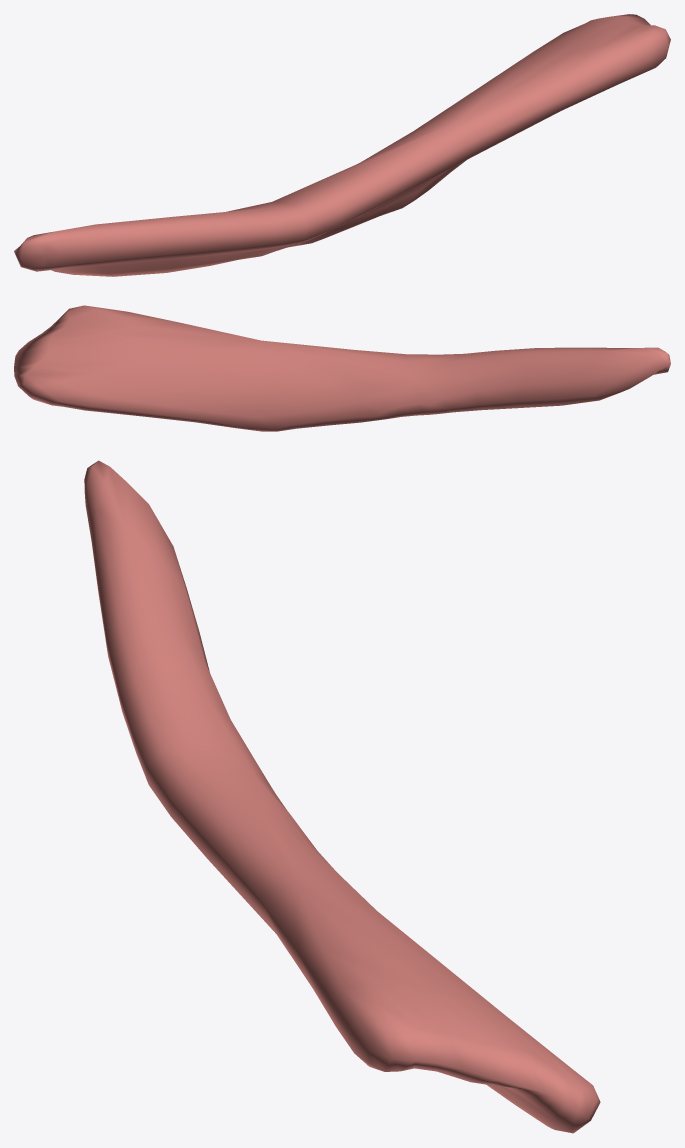
3 renders of one model, top to bottom at view 1: azimuth 30°, elevation 25°; view 2: azimuth 150°, elevation 25°; view 3: azimuth 270°, elevation 25°, orthographic. The views are drawn at different scales.
Visible parts, largest first — view 1: ZA_5755027f363aab50; view 2: ZA_5755027f363aab50; view 3: ZA_5755027f363aab50.
Part boxes in pixels (left/top/right/bottom): ZA_5755027f363aab50: left=14, top=14, right=670, bottom=276; ZA_5755027f363aab50: left=14, top=305, right=670, bottom=431; ZA_5755027f363aab50: left=84, top=460, right=600, bottom=1133.
Bounding box in the file's own units: 0.00992 × 0.00185 × 0.00407.
